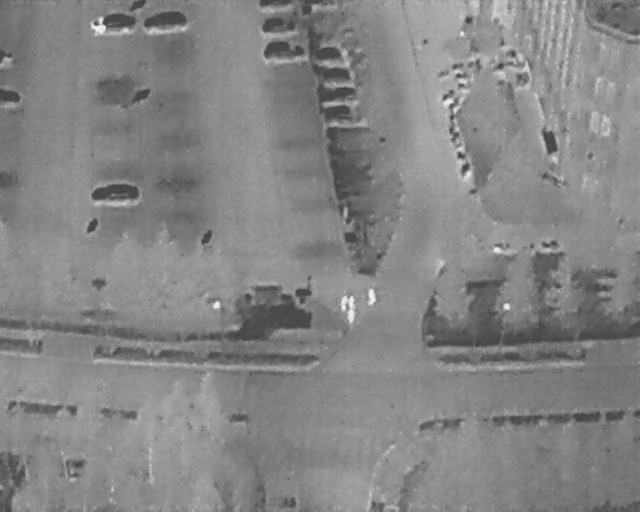Car: (263, 41, 306, 61), (92, 185, 139, 203), (90, 13, 136, 31), (144, 11, 187, 29), (319, 84, 356, 104), (322, 103, 359, 123), (262, 17, 298, 34), (310, 44, 342, 62), (318, 65, 350, 83), (259, 0, 297, 13), (0, 89, 20, 105), (0, 50, 12, 70)
Person: (366, 288, 376, 307), (340, 295, 348, 312), (347, 307, 355, 324), (348, 296, 355, 311)
